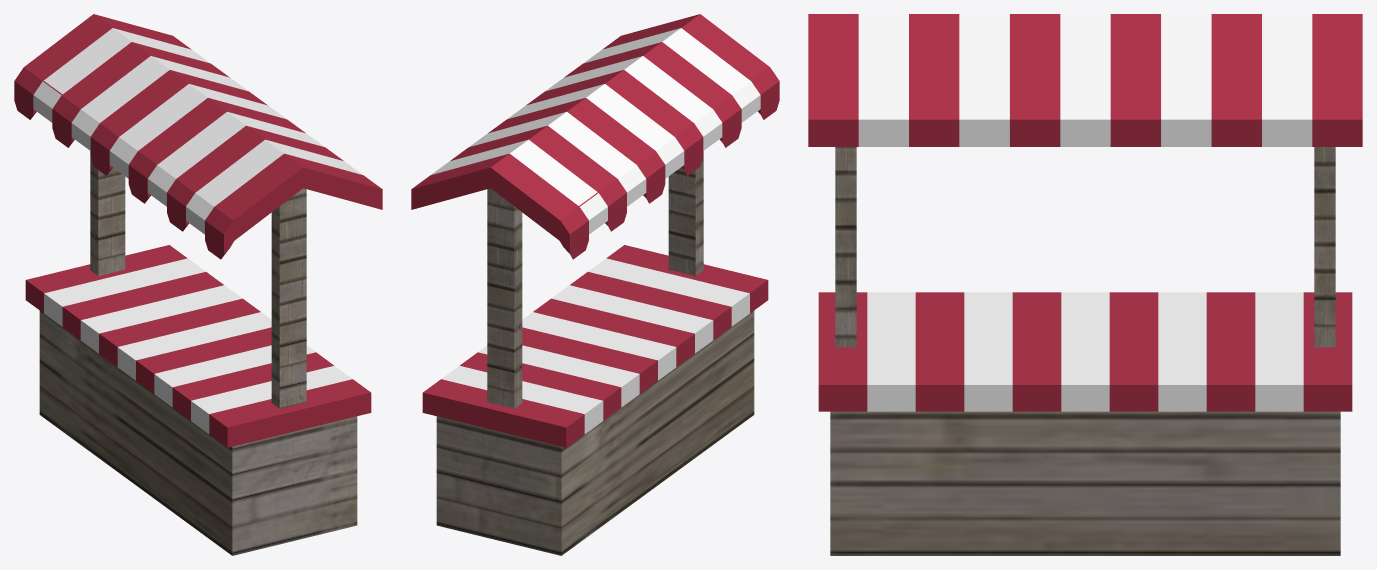
Rendered from kraam.fbx.
3 views of the same model, side by side, from view 1: azimuth 30°, elevation 25°; view 2: azimuth 150°, elevation 25°; view 3: azimuth 270°, elevation 25° (orthographic). The views are drawn at different scales.
Visible parts, largest first — view 1: Cube.004, Cube, Cube.001, Cube.003, Cube.002; view 2: Cube.004, Cube, Cube.001, Cube.002, Cube.003; view 3: Cube, Cube.004, Cube.001, Cube.002, Cube.003.
Boxes of the visible parts, box(x1,y1,x2,y2) form: Cube.004: box(14, 14, 382, 259); Cube: box(39, 311, 357, 555); Cube.001: box(25, 245, 371, 447); Cube.003: box(271, 188, 306, 408); Cube.002: box(90, 151, 125, 275); Cube.004: box(411, 14, 779, 259); Cube: box(436, 311, 754, 555); Cube.001: box(422, 245, 768, 447); Cube.002: box(487, 188, 522, 408); Cube.003: box(668, 151, 703, 275); Cube: box(830, 411, 1340, 555); Cube.004: box(808, 14, 1362, 146); Cube.001: box(818, 292, 1352, 411); Cube.002: box(1314, 147, 1335, 347); Cube.003: box(835, 147, 856, 347).
Bounding box in the file's own units: 325 × 744 × 745.
2 materials, 2 textured.
